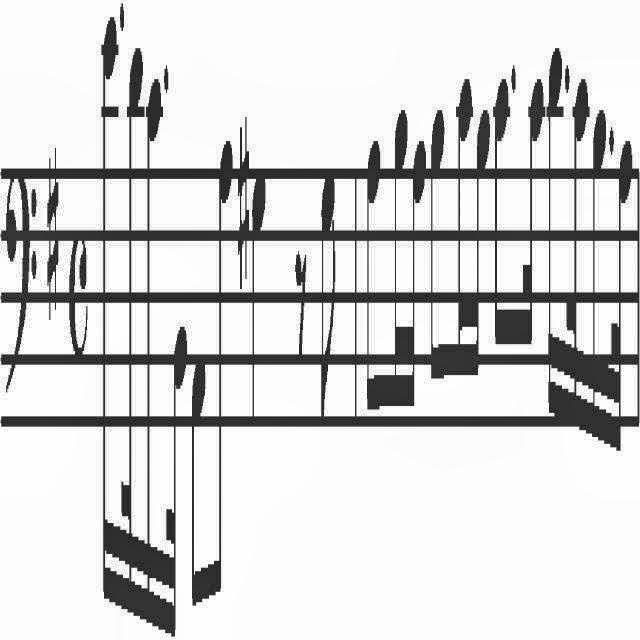Diez: (42, 138, 62, 334), (233, 114, 250, 298)
Eighth-note: (212, 129, 232, 601), (362, 134, 386, 426), (318, 168, 344, 414), (426, 114, 446, 406), (493, 77, 509, 383), (190, 347, 205, 640)
Eighth-rest: (294, 230, 310, 386)
Quarter-note: (250, 166, 270, 434)
Sixteenth-note: (98, 0, 119, 598), (146, 72, 162, 640), (546, 37, 562, 436), (453, 64, 471, 412), (524, 57, 542, 400), (590, 104, 606, 482), (391, 99, 409, 418), (473, 92, 491, 400), (408, 116, 424, 424)
